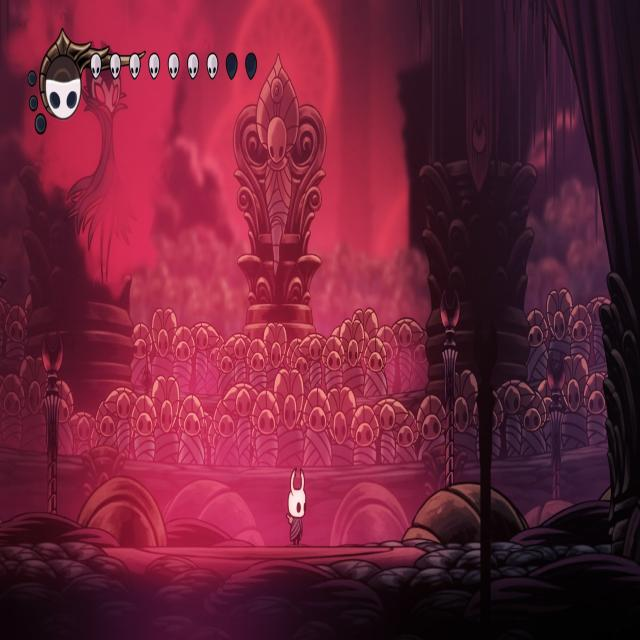Dive Dash: (68, 39, 143, 298)
Player: (283, 462, 309, 547)
